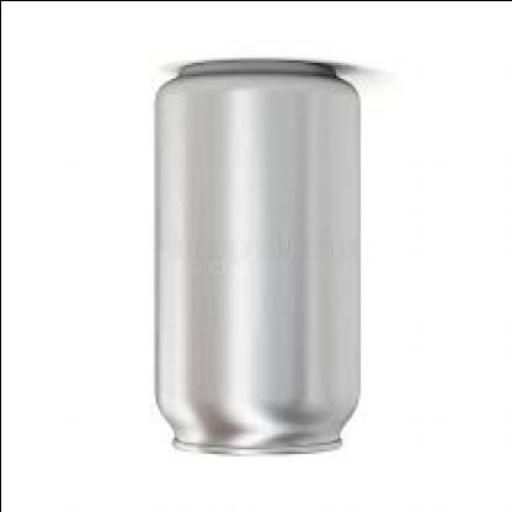metal: (155, 62, 364, 456)
